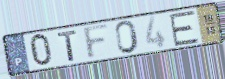0: (28, 32, 55, 69), (114, 20, 141, 55)
4: (145, 15, 170, 51)
E: (168, 9, 201, 48)
F: (82, 22, 112, 62)
T: (56, 28, 80, 62)
